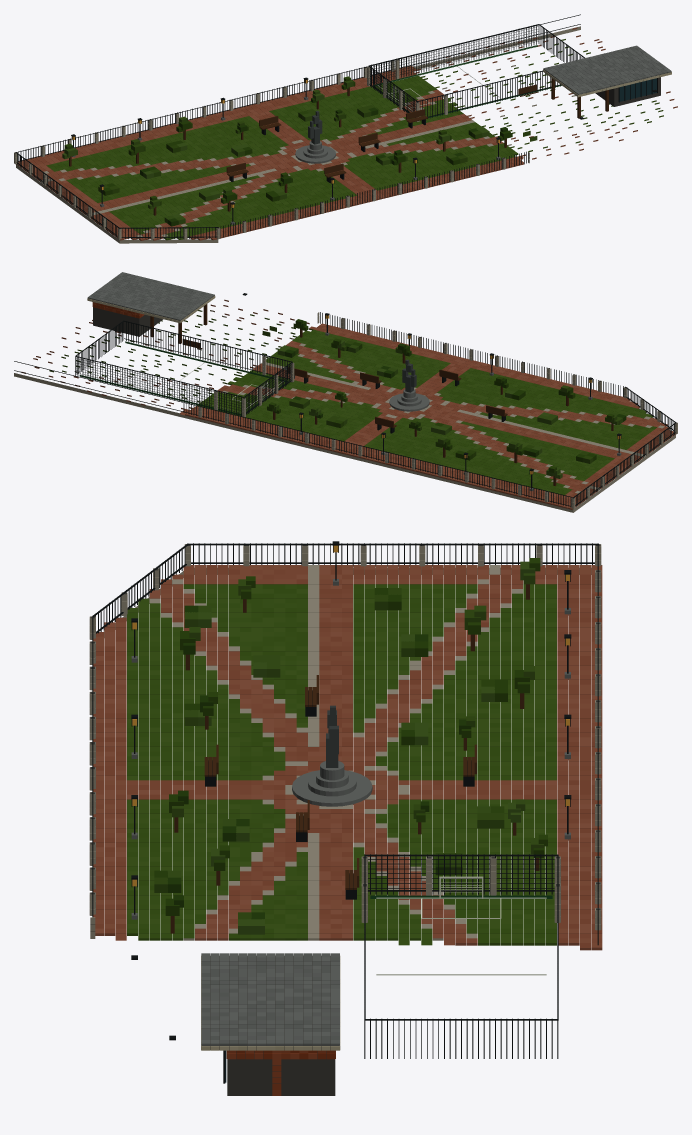
The model's file is SM_StreetFrontage_087.fbx.
3 views of the same model, one above another, from view 1: azimuth 30°, elevation 25°; view 2: azimuth 150°, elevation 25°; view 3: azimuth 270°, elevation 25° (orthographic). The views are drawn at different scales.
Visible parts, largest first — view 1: SM_StreetFrontage_087; view 2: SM_StreetFrontage_087; view 3: SM_StreetFrontage_087.
Boxes of the visible parts, left/top/right/bottom form: SM_StreetFrontage_087: left=14, top=14, right=677, bottom=243; SM_StreetFrontage_087: left=14, top=272, right=677, bottom=512; SM_StreetFrontage_087: left=89, top=541, right=602, bottom=1095.
Size of the model in its own units: 79.81 by 31.59 by 6.45.
